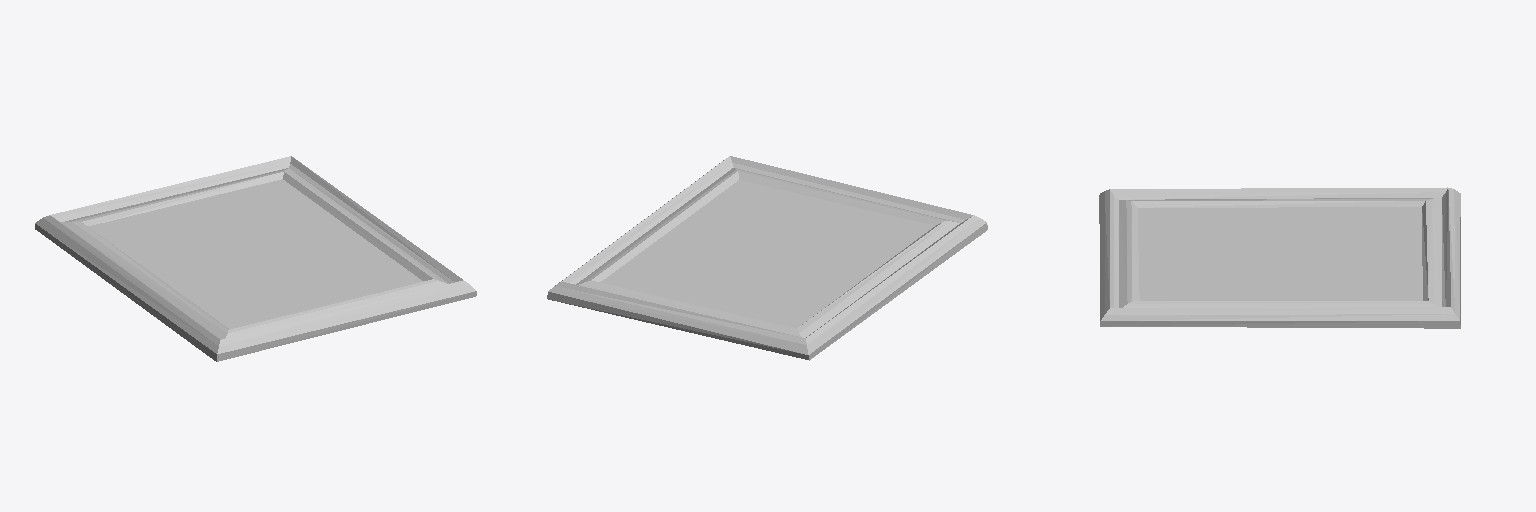
File: painting.obj
3 views of the same model, side by side, from view 1: azimuth 30°, elevation 25°; view 2: azimuth 150°, elevation 25°; view 3: azimuth 270°, elevation 25° (orthographic).
Visible parts, largest first — view 1: cadre_lowpoly; view 2: cadre_lowpoly; view 3: cadre_lowpoly.
Part boxes in pixels (bbox=[...]): cadre_lowpoly: bbox=[35, 156, 476, 361]; cadre_lowpoly: bbox=[547, 156, 987, 360]; cadre_lowpoly: bbox=[1099, 187, 1460, 328].
Bounding box in the file's own units: 1.77 × 0.1165 × 2.12.